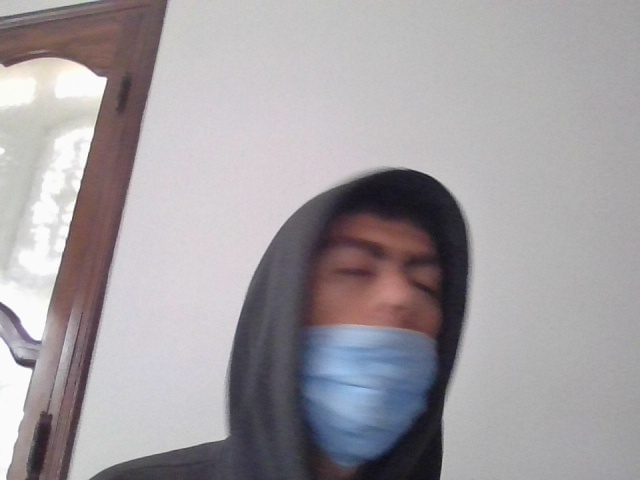mask_weared_incorrect: (296, 196, 460, 469)
